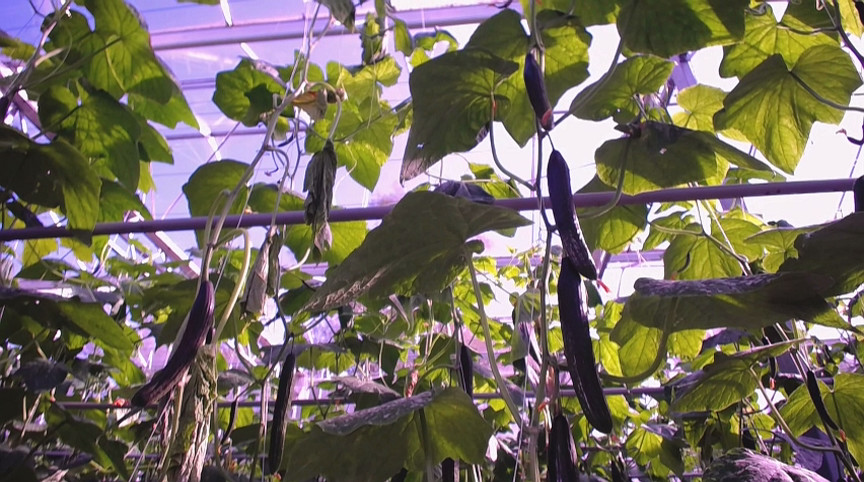cucumber: (133, 280, 219, 406), (545, 150, 599, 282), (269, 353, 296, 472), (522, 53, 555, 132), (548, 411, 579, 482)
